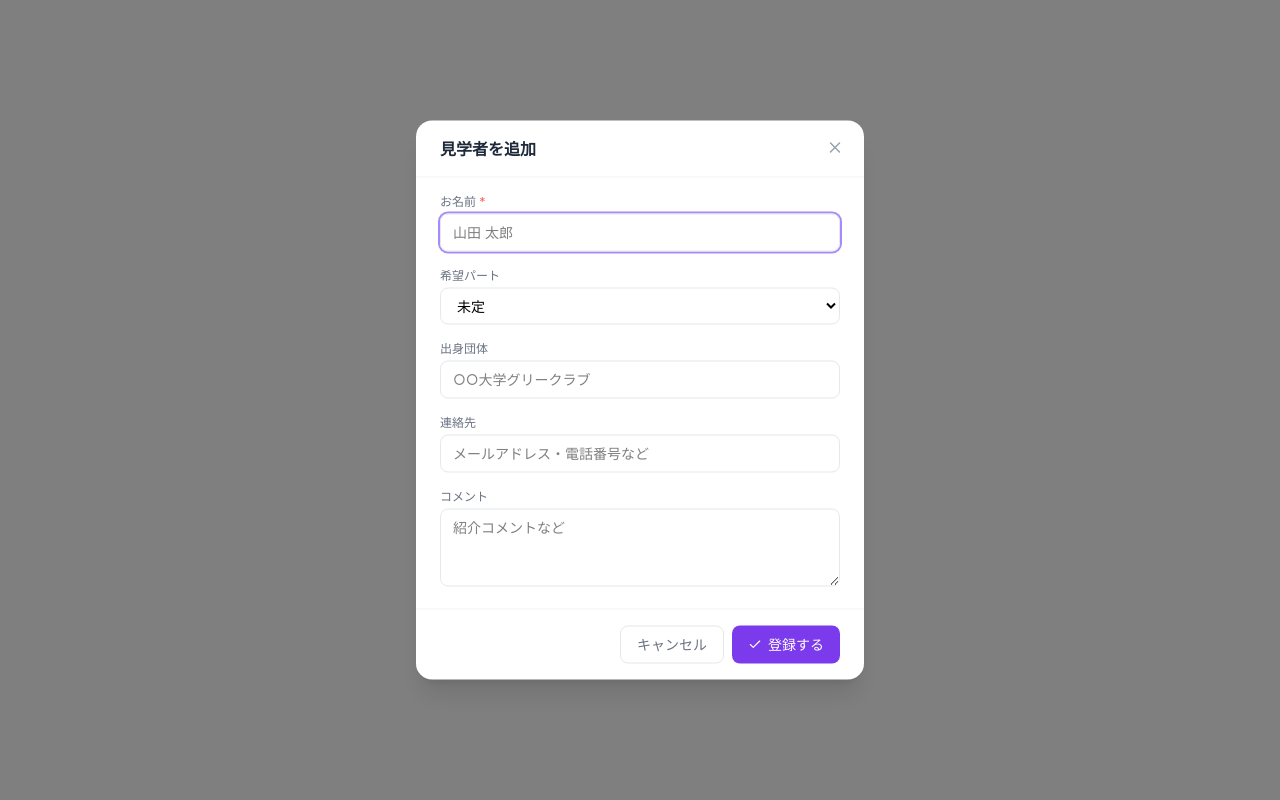
Test: AddVisitorApplicationModal › 送信失敗: エラーメッセージを表示する
The width and height of the screenshot is (1280, 800).
Type "見学 太郎" into the field labelled "お名前 *".
click(640, 232); type("見学 太郎")  # box 440,214 -> 840,252
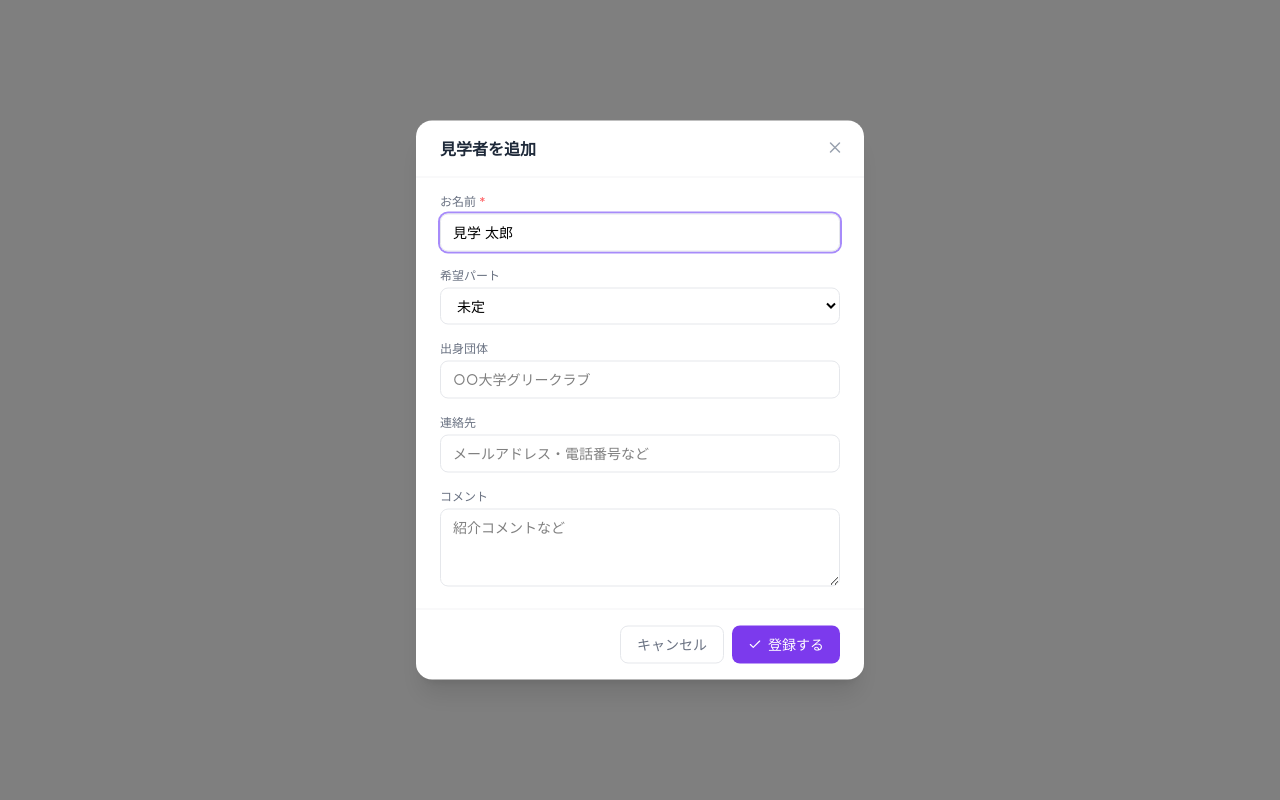
Click the button "登録する".
click(786, 644)  # box 732,626 -> 840,664
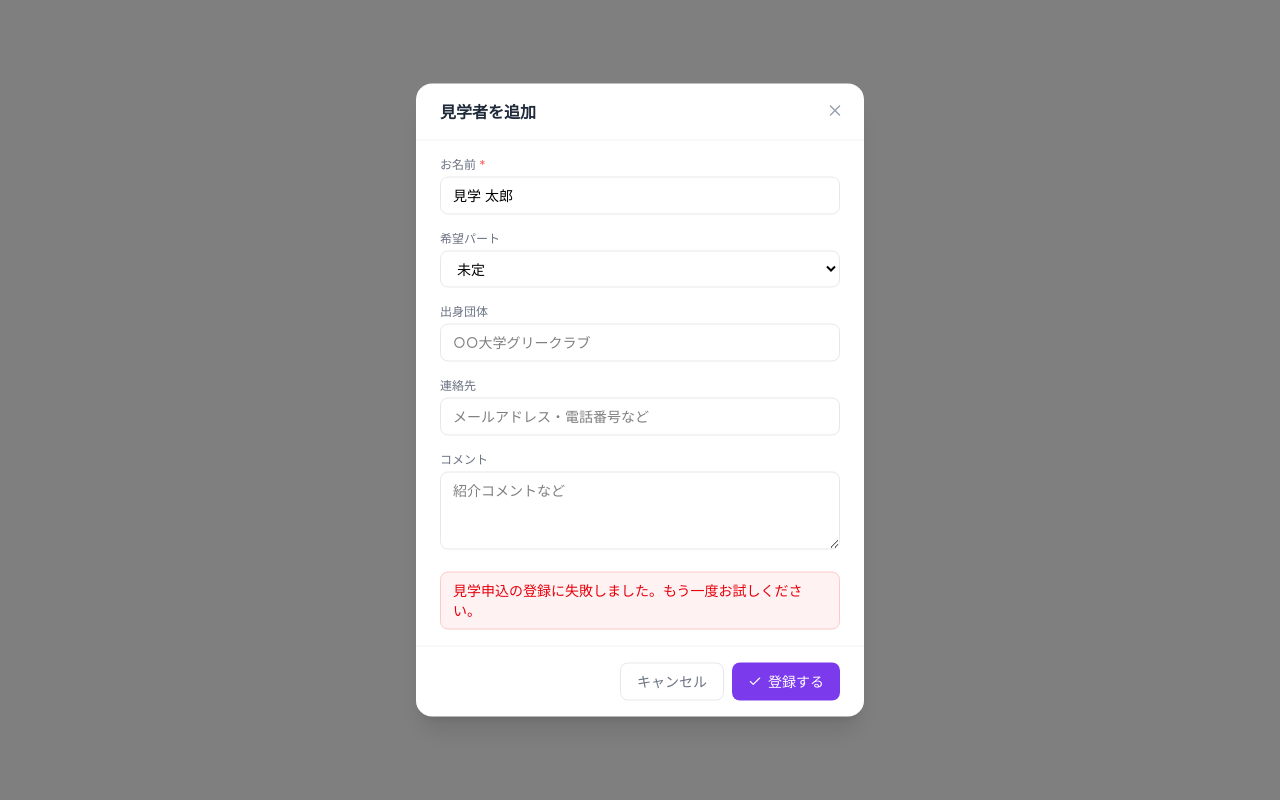
Expected: the message reads "見学申込の登録に失敗しました。もう一度お試しください。", 453,582 -> 803,618
